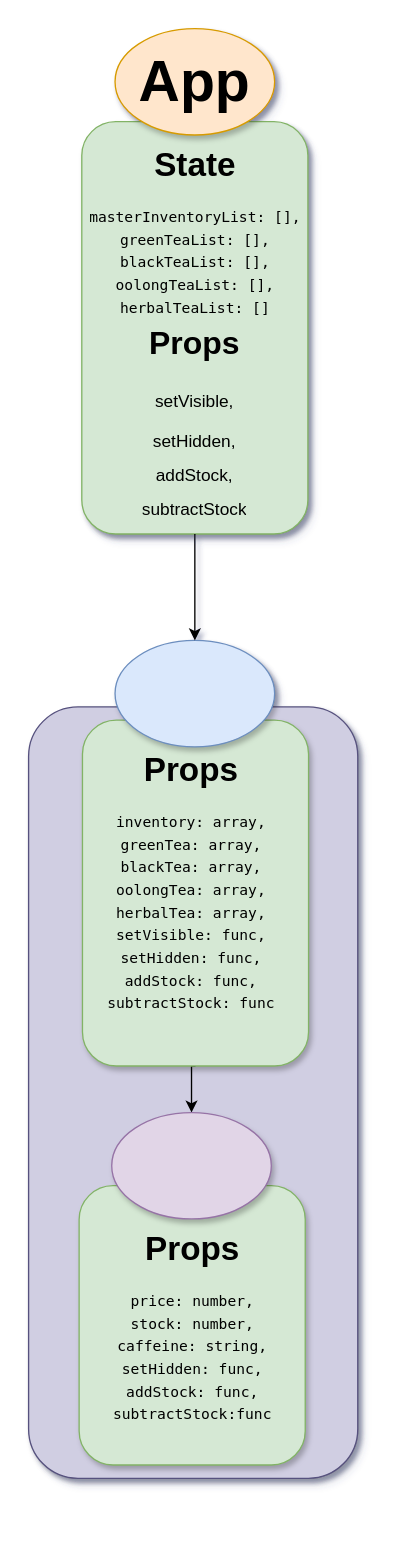
The diagram is 398 pixels wide and 1565 high, and some of its shapes have lost their labels. Each missing label, with the centre of its shape:
Details: the point at 192,1167
Home: the point at 195,695
